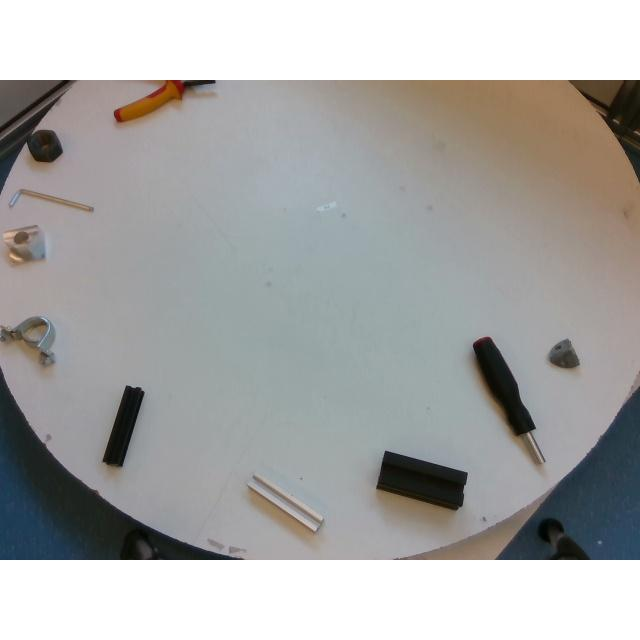F20_20_B: (104, 386, 144, 466)
F20_20_G: (248, 473, 324, 533)
Housing: (0, 315, 56, 365)
M30: (27, 130, 62, 162)
S40_40_B: (377, 451, 468, 509)
